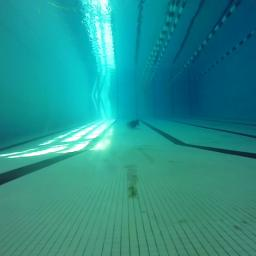Full: (128, 120, 139, 128)
